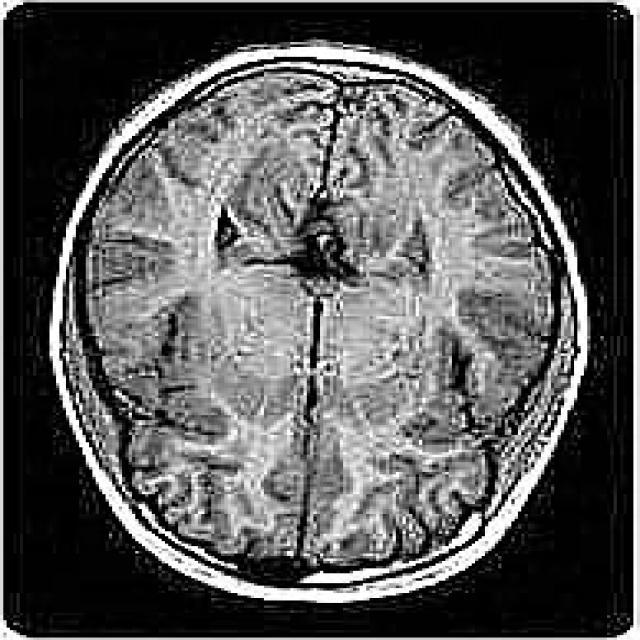notumor: (46, 44, 591, 608)
